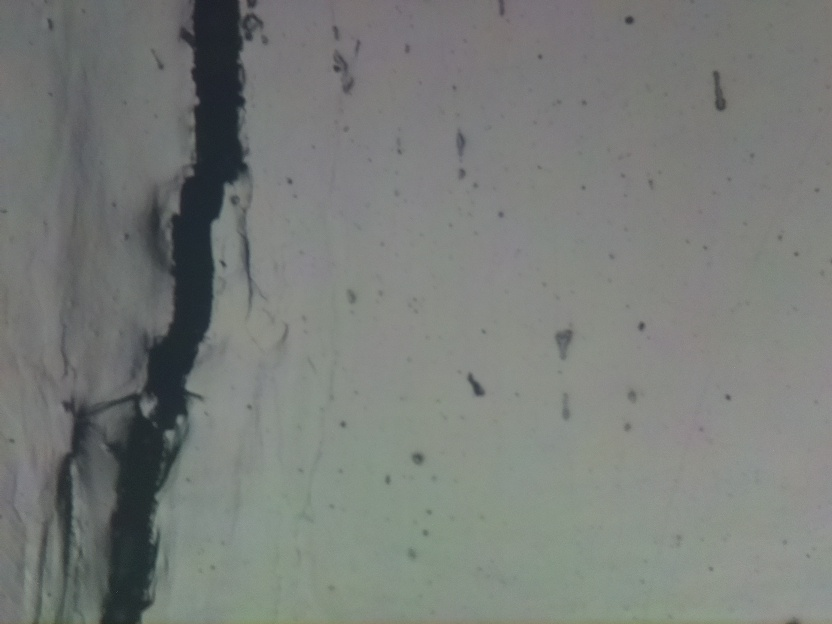crack: (95, 0, 247, 623), (53, 398, 86, 593)
